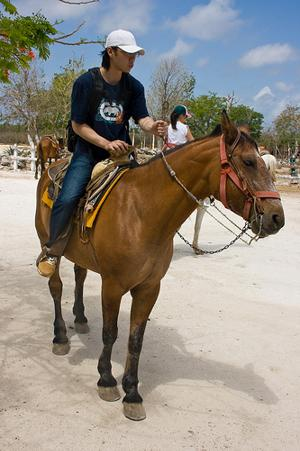person: (38, 29, 169, 280)
